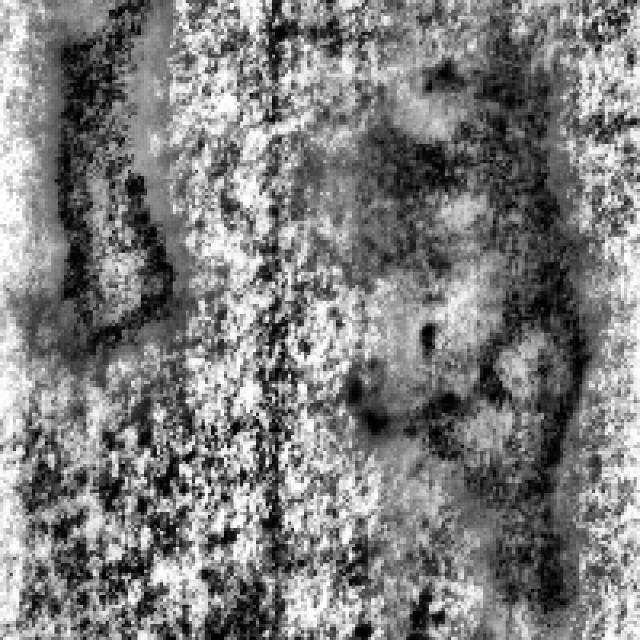Scratches: (346, 41, 602, 608), (48, 0, 186, 352)
